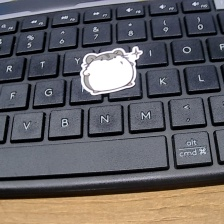mouse: (79, 43, 143, 94)
